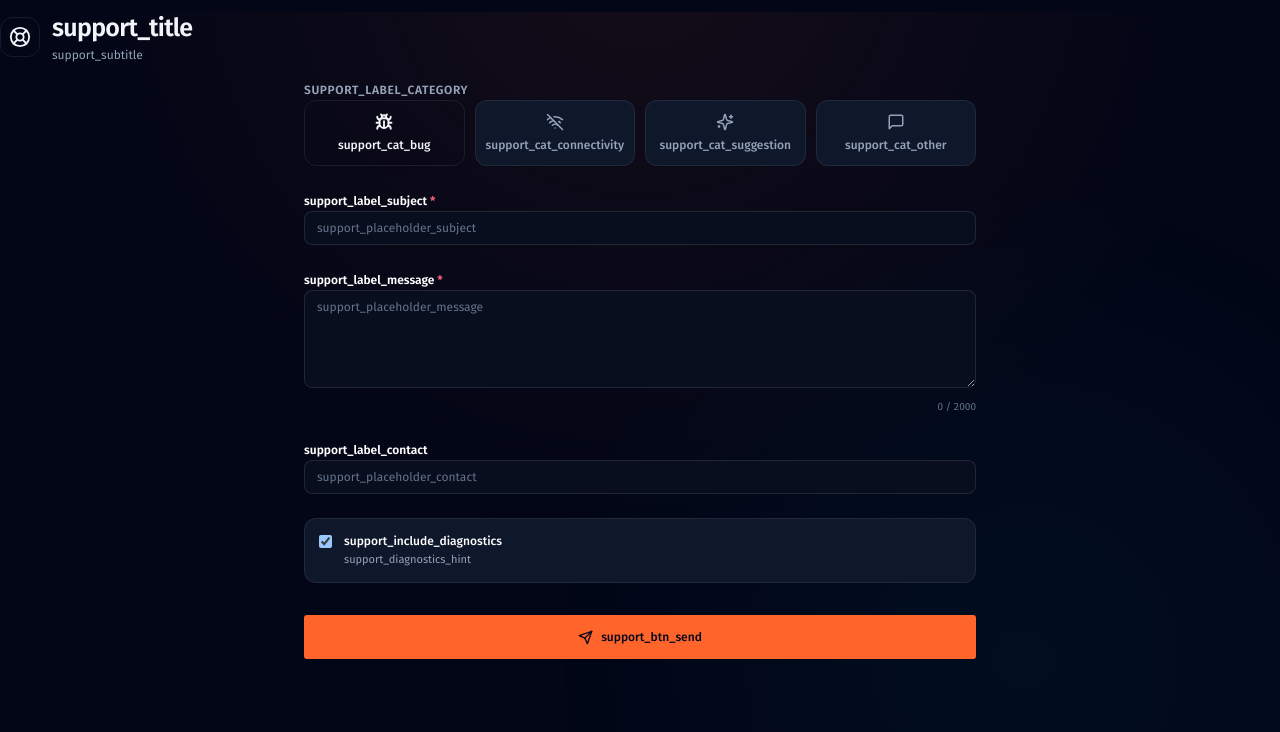
Test case: SupportView Component › submits feedback successfully and switches to success card
The width and height of the screenshot is (1280, 732).
Type "Discord bağlantı hatası" into the field labelled "support_label_subject *".
click(640, 228); type("Discord bağlantı hatası")  # box [304,210,976,244]
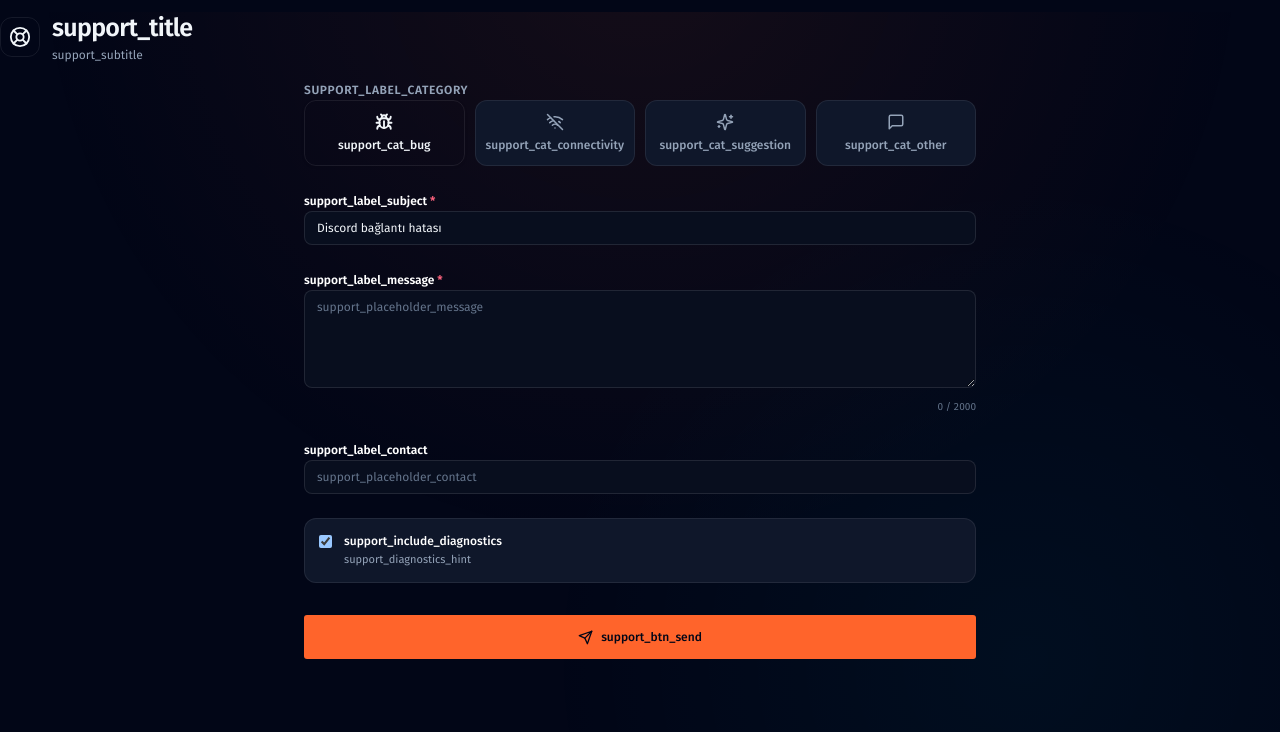
Type "Bağlantı kurulurken sürekli zaman aşımına uğruyor." into the text box labelled "support_label_message *".
click(640, 338); type("Bağlantı kurulurken sürekli zaman aşımına uğruyor.")  # box [304,290,976,388]
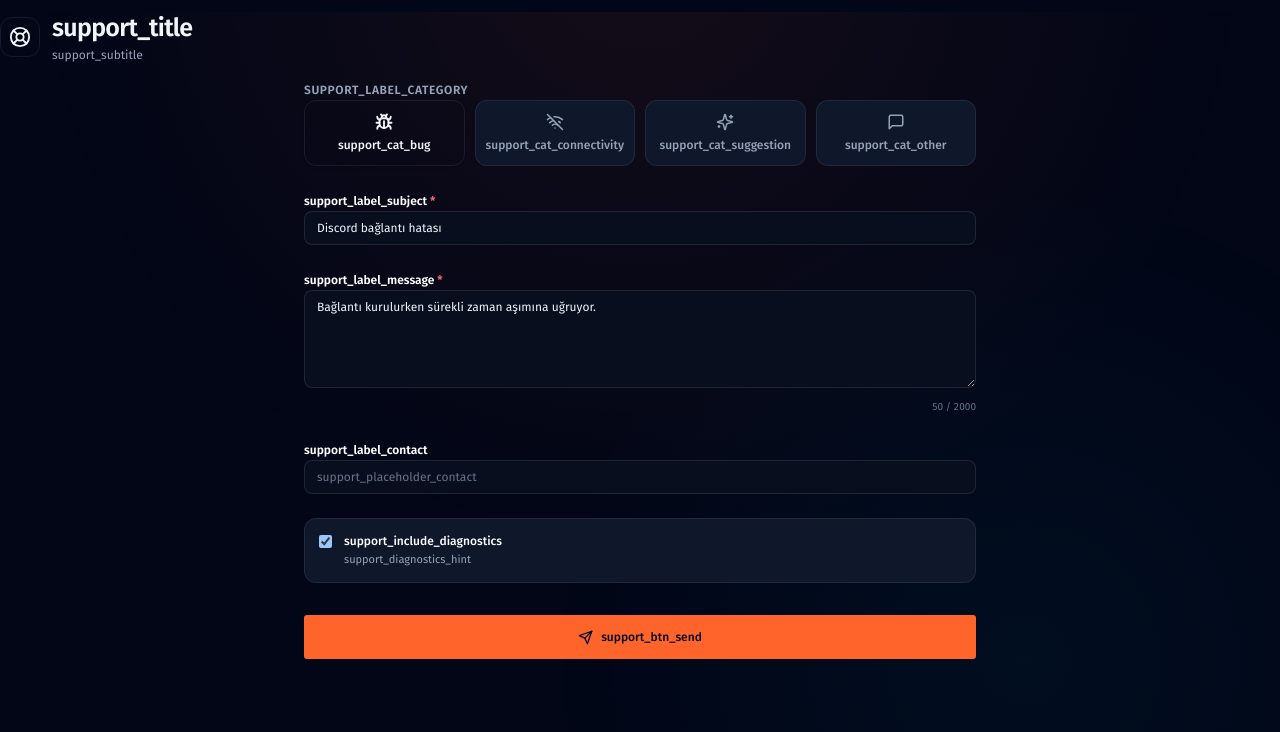
Click the button "support_btn_send".
click(640, 637)  # box [304,615,976,659]
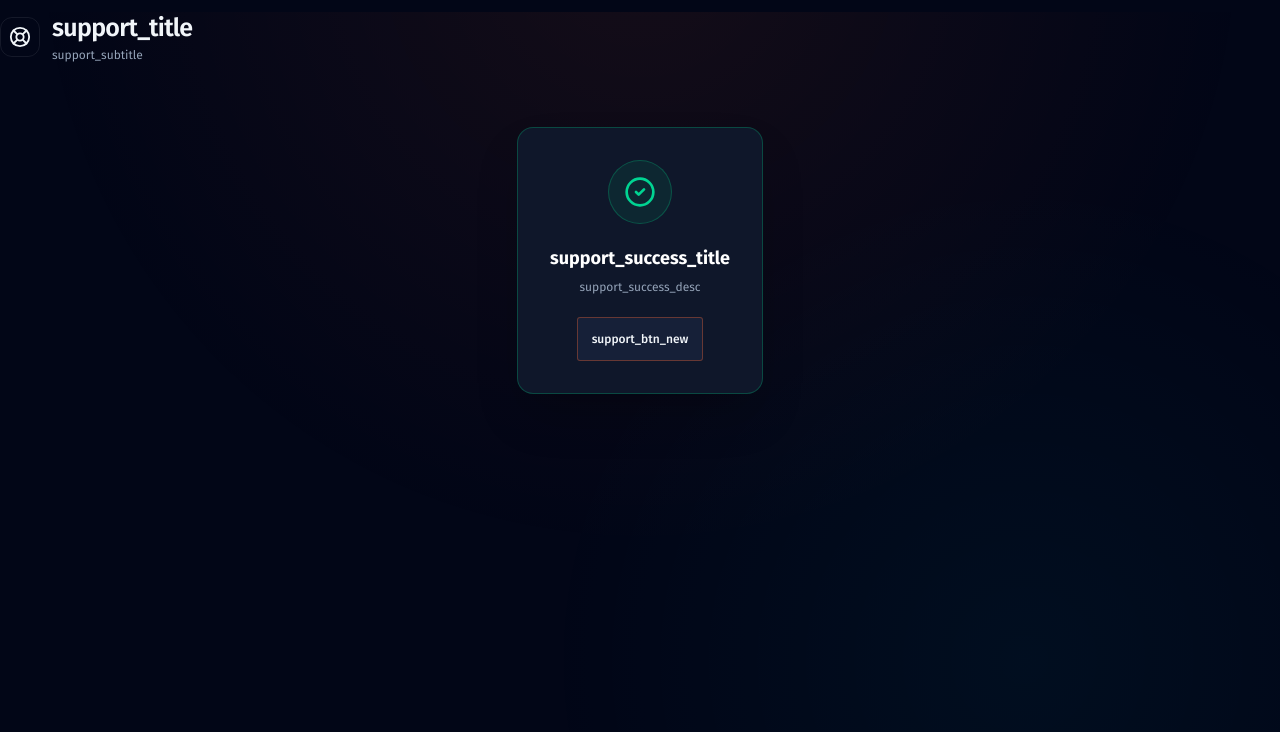
Result: the heading "support_success_title" is shown at [550,244,730,272]
